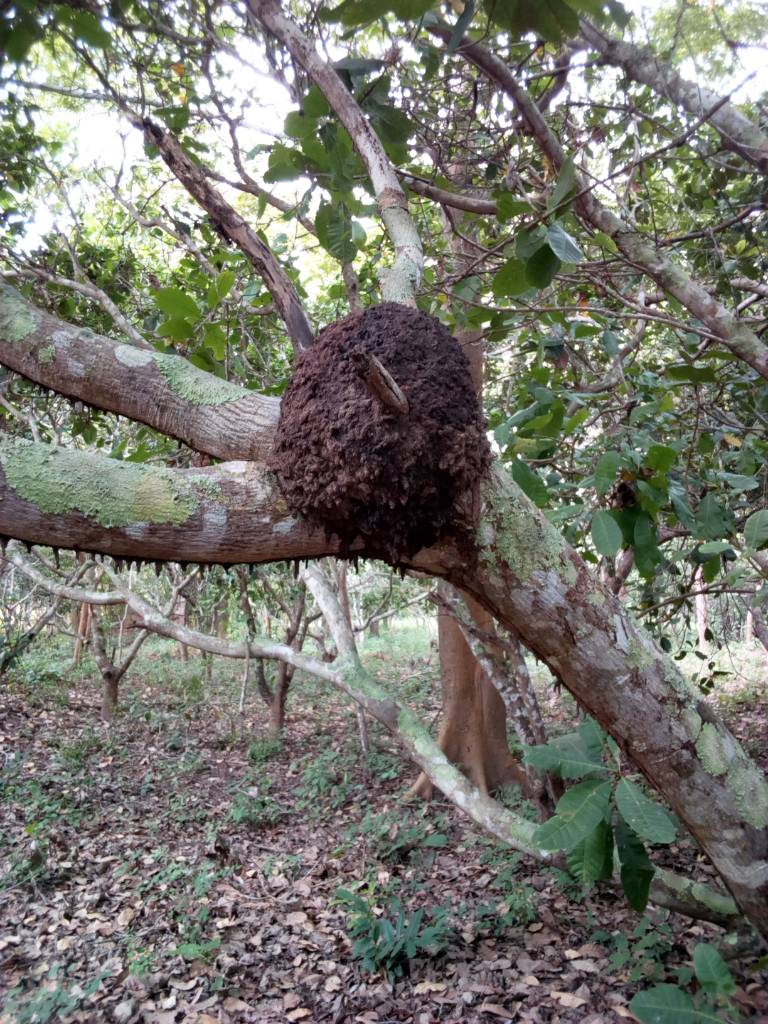Termites: (283, 308, 477, 553)
